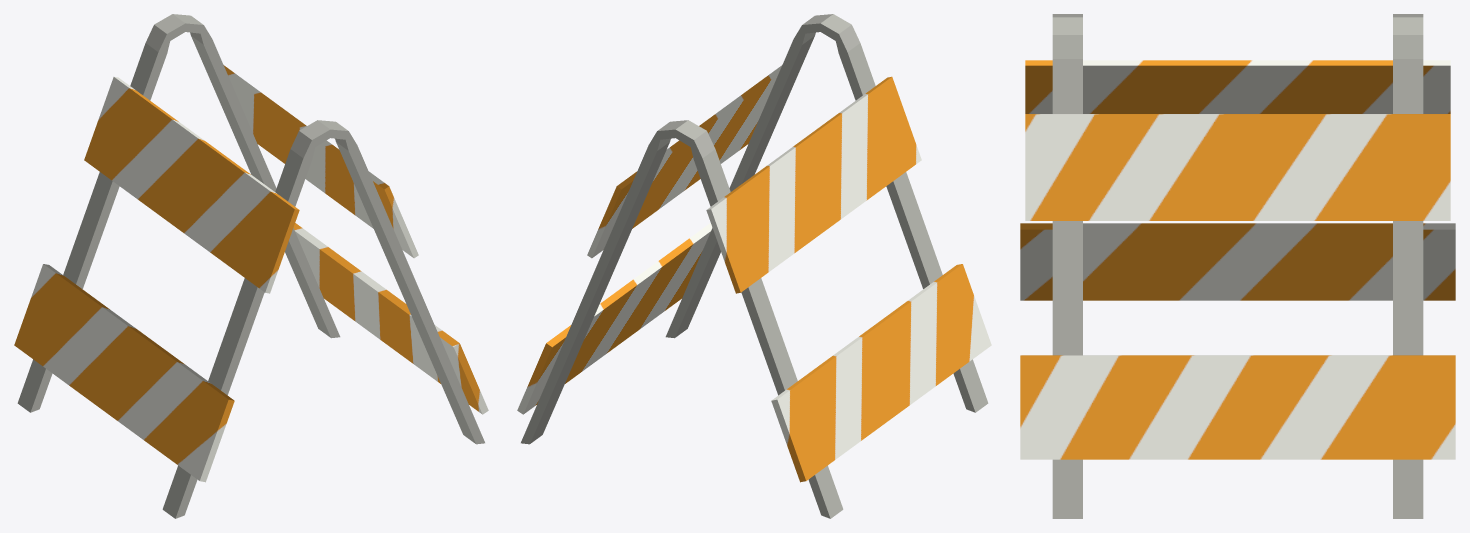
Rendered from onebarrier.fbx.
3 views of the same model, side by side, from view 1: azimuth 30°, elevation 25°; view 2: azimuth 150°, elevation 25°; view 3: azimuth 270°, elevation 25° (orthographic). The views are drawn at different scales.
Visible parts, largest first — view 1: barrier_m; view 2: barrier_m; view 3: barrier_m.
Boxes of the visible parts, x1,y1,x2,y2 form: barrier_m: (14,14,488,518); barrier_m: (517,14,991,518); barrier_m: (1020,14,1455,518).
Bounding box in the file's own units: 169 × 177 × 163.
